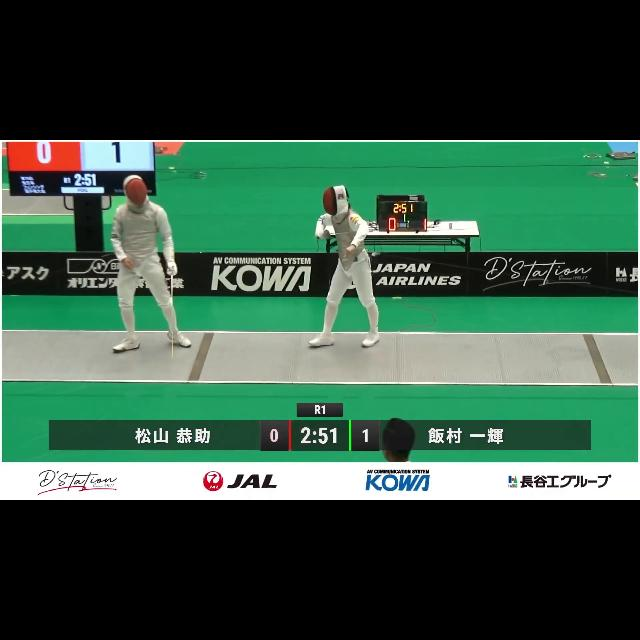blade: (162, 262, 182, 362), (322, 228, 353, 262)
